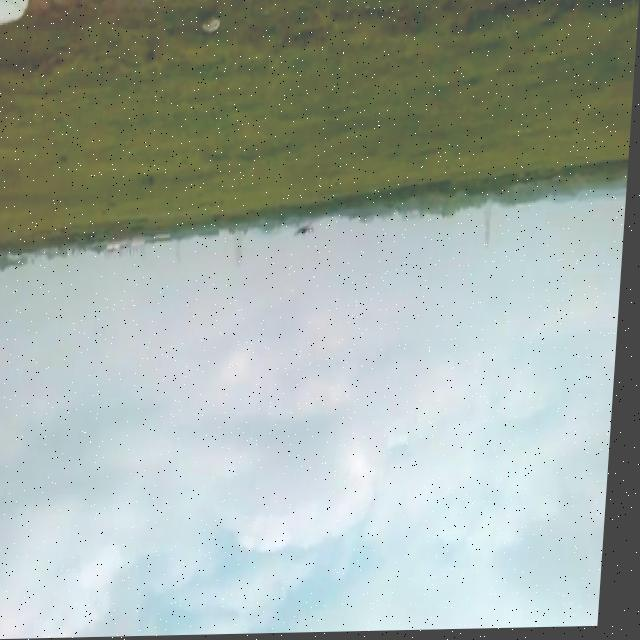drone: (295, 222, 320, 245)
